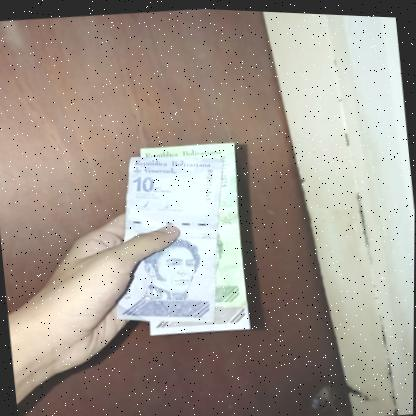fifty-front-vef: (139, 135, 251, 312)
ten-front-vef: (98, 143, 239, 330)
two_hundred-front-vef: (146, 297, 250, 339)
